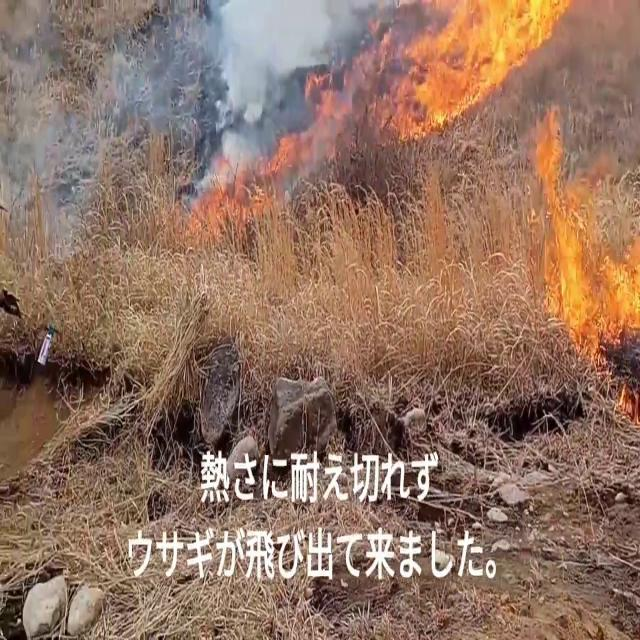Fire: (515, 115, 640, 388), (372, 0, 574, 135), (204, 125, 314, 238)
Smoke: (209, 0, 316, 137)
